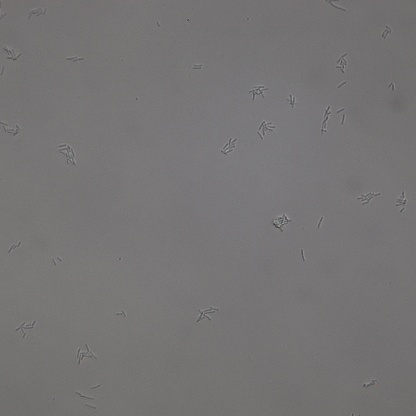R(colony): (75, 344, 97, 363), (57, 142, 75, 165), (196, 306, 219, 324), (14, 321, 36, 339), (258, 119, 276, 139), (1, 120, 21, 137), (358, 192, 382, 206), (221, 138, 239, 156), (250, 84, 268, 102), (272, 214, 291, 231), (320, 106, 331, 135), (396, 190, 409, 213), (335, 53, 349, 74), (3, 47, 21, 62), (27, 7, 46, 18), (8, 241, 22, 253), (381, 25, 393, 37), (287, 95, 297, 108), (65, 56, 83, 63)
